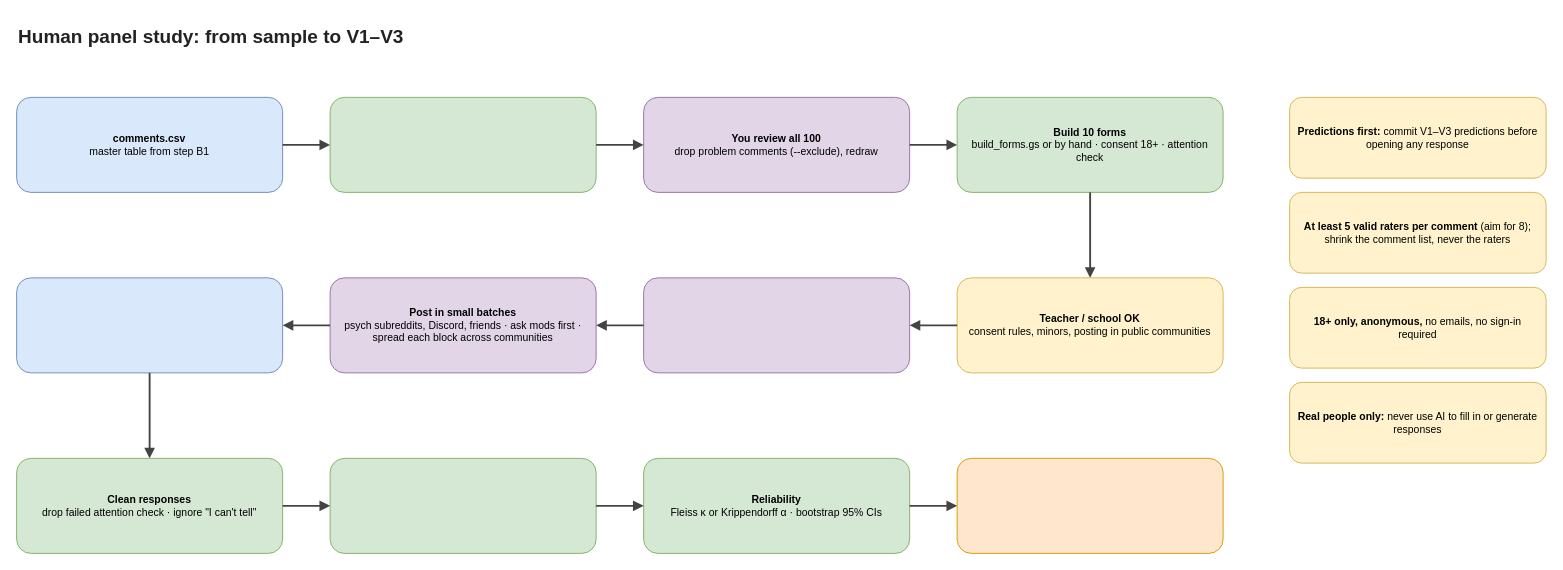
This 1563x570 diagram has some shape labels left out. The shapes that lost their labels are listed below. From the top down, each one's centre as x and y in pixels, then its label:
[462,144]: make_sample.py 100 comments, 25 per group, 10 blocks of 10, seed 42
[149,325]: Responses spreadsheet one tab per form · stop a block at ~8 valid raters
[776,325]: Pilot with a few people fix wording · pilot answers are excluded
[462,505]: Panel scores vote share per group · panel_grupa · panel_soglasnost
[1089,505]: V1 · V2 · V3 vs model and vs original raters (fig10, fig11)
